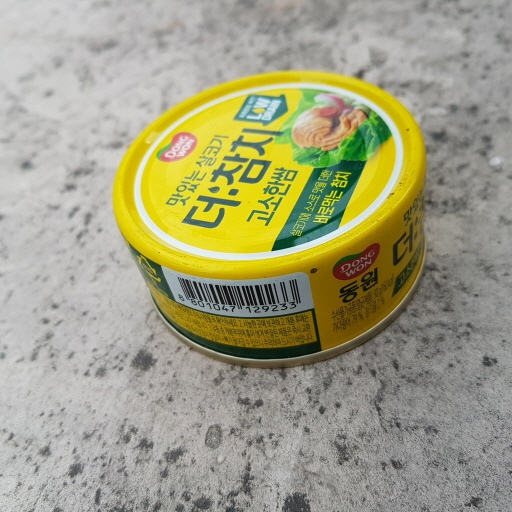Metal_1: (116, 66, 431, 364)
